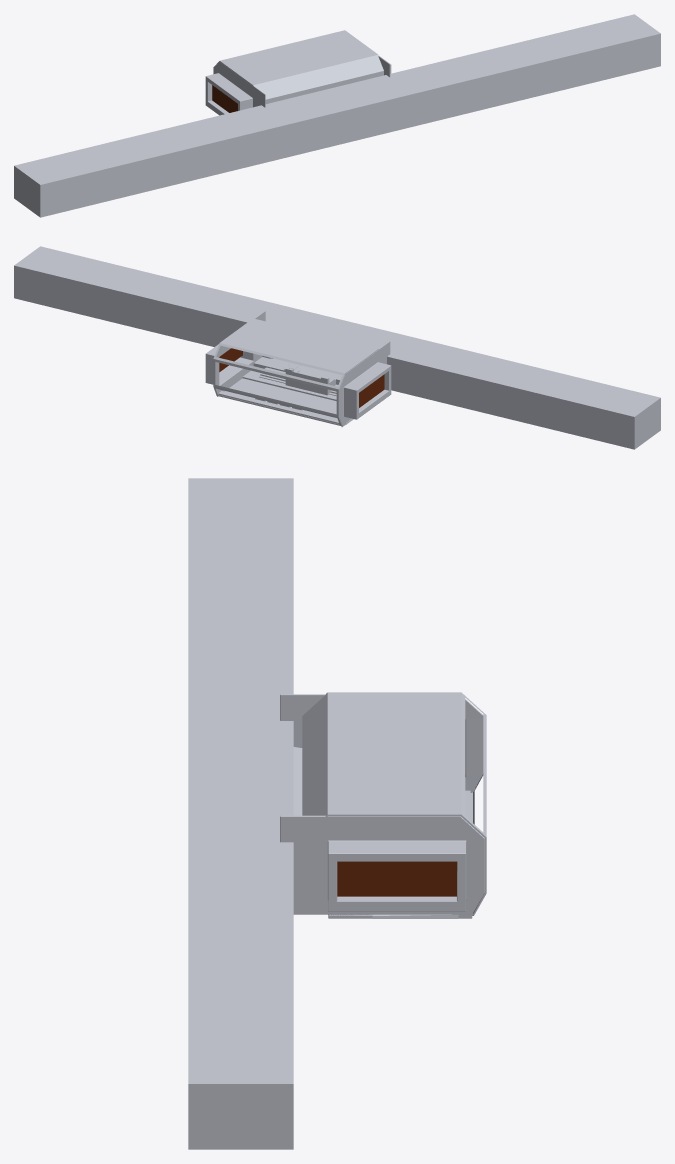
The model's file is space-station-vr.glb.
3 renders of one model, top to bottom at view 1: azimuth 30°, elevation 25°; view 2: azimuth 150°, elevation 25°; view 3: azimuth 270°, elevation 25°, orthographic. The views are drawn at different scales.
Parts seen in each view (by area): view 1: SpaceStation; view 2: SpaceStation; view 3: SpaceStation.
Boxes of the visible parts, x1,y1,x2,y2 form: SpaceStation: (14, 14, 660, 217); SpaceStation: (14, 246, 660, 449); SpaceStation: (188, 478, 486, 1149).
Size of the model in its own units: 119 by 9.51 by 24.76.
